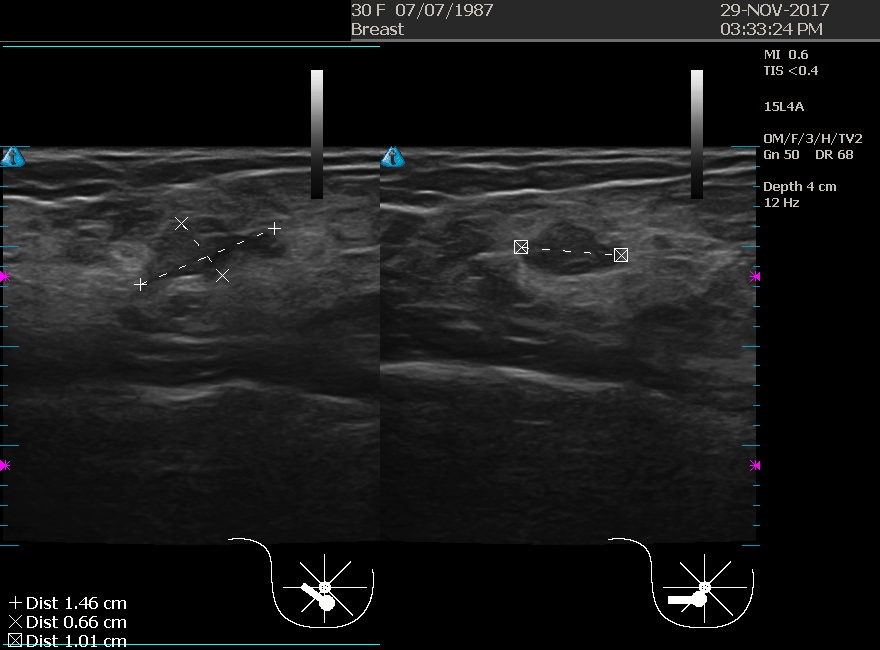BIRADS_4: (108, 157, 300, 349)
